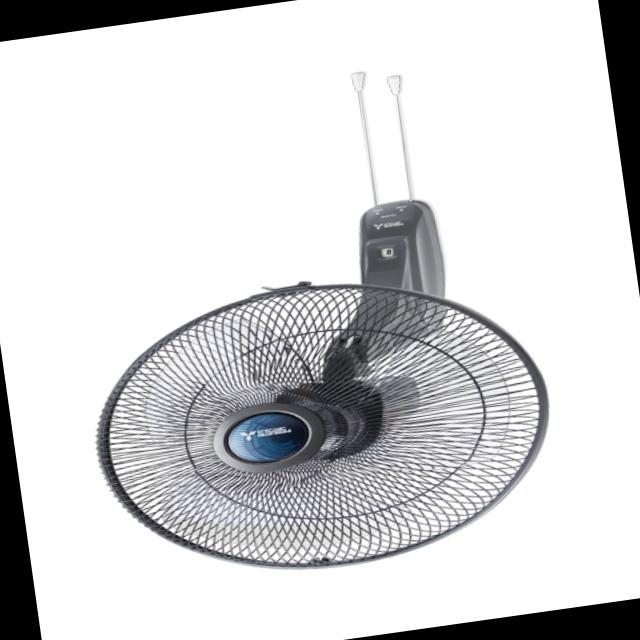fan: (30, 37, 592, 612)
